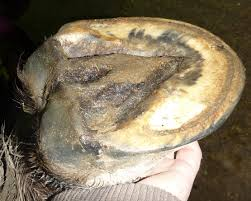horsesole: (47, 16, 246, 157)
